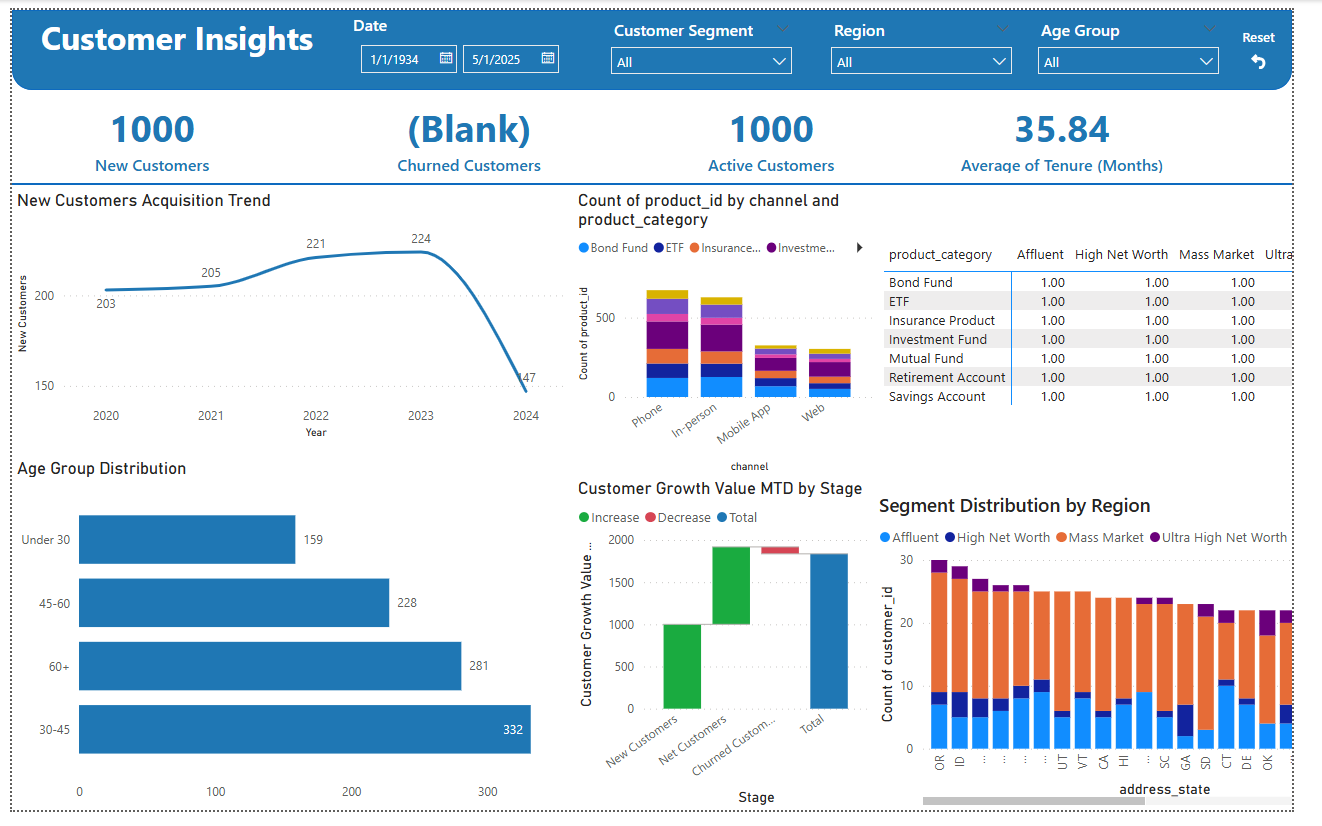

The dashboard page shown, as its layout file describes it:
{"tool":"powerbi","page":{"name":"Customer Insights","canvas":[1280,800],"ordinal":2},"visuals":[{"type":"lineChart","title":" New Customers Acquisition Trend","fields":{"Y":["customers.New Customers"],"Category":["customers.enrollment_date.Variation.Date Hierarchy.Year","customers.enrollment_date.Variation.Date Hierarchy.Quarter","customers.enrollment_date.Variation.Date Hierarchy.Month","customers.enrollment_date.Variation.Date Hierarchy.Day"]},"box":[0,179.9,561.1,252.9],"z":0},{"type":"clusteredBarChart","title":"Age Group Distribution","fields":{"Category":["customers.Age Group"],"Y":["Count(customers.customer_id)"]},"box":[0,448.3,561.4,351.7],"z":1000},{"type":"columnChart","title":"Segment Distribution by Region","fields":{"Y":["Count(customers.customer_id)"],"Category":["customers.customer_segment"]},"box":[867,468,413,332],"z":2000},{"type":"pivotTable","fields":{"Columns":["customers.customer_segment"],"Values":["customers.Customer Retention Rate"],"Rows":["products.product_category"]},"box":[867.4,228.6,533,238.9],"z":3000},{"type":"columnChart","fields":{"Category":["enrollments.channel"],"Y":["CountNonNull(enrollments.product_id)"]},"box":[561.1,179.9,306.3,287.6],"z":4000},{"type":"waterfallChart","fields":{"Category":["CustomerGrowthStages.Stage"],"Y":["CustomerGrowthStages.Customer Growth Value MTD"]},"box":[561.4,467.6,300.5,332.4],"z":5000},{"type":"card","fields":{"Values":["customers.New Customers"]},"box":[0,87.1,280.1,80.6],"z":6000},{"type":"card","fields":{"Values":["customers.Active Customers"]},"box":[619.2,87.1,280.1,80.6],"z":7000},{"type":"card","fields":{"Values":["customers.Churned Customers"]},"box":[316.6,87.1,280.1,80.6],"z":8000},{"type":"card","fields":{"Values":["Avg(customers.Tenure (Months))"]},"box":[909.6,87.1,280.1,80.6],"z":9000},{"type":"shape","box":[0,0,1280,80],"z":10000},{"type":"textbox","box":[24.4,0,292.3,72.1],"z":11000},{"type":"slicer","title":"Date","fields":{"Values":["Date.Date"]},"box":[336.3,3.7,240.7,68.4],"z":12000},{"type":"slicer","fields":{"Values":["customers.customer_segment"]},"box":[589.2,3.7,200.5,68.4],"z":13000},{"type":"slicer","fields":{"Values":["customers.address_state"]},"box":[809.4,3.7,200.5,68.4],"z":14000},{"type":"actionButton","title":"Reset","box":[1227.2,17.8,38.4,45],"z":15000},{"type":"shape","box":[0,167.7,1279.6,12.2],"z":16000},{"type":"slicer","fields":{"Values":["customers.Age Group"]},"box":[1016.4,3.7,200.5,68.4],"z":17000}]}

Visuals, with their boxes in screenshot pixels (x1, y1, x2, y2), scaled from the page's 1280x800 canvas onto the 1322x826 screenshot:
" New Customers Acquisition Trend" lineChart: (x1=0, y1=186, x2=580, y2=447)
"Age Group Distribution" clusteredBarChart: (x1=0, y1=463, x2=580, y2=825)
"Segment Distribution by Region" columnChart: (x1=895, y1=483, x2=1321, y2=825)
pivotTable - customers.customer_segment x customers.Customer Retention Rate: (x1=896, y1=236, x2=1321, y2=483)
columnChart - enrollments.channel x CountNonNull(enrollments.product_id): (x1=580, y1=186, x2=896, y2=483)
waterfallChart - CustomerGrowthStages.Stage x CustomerGrowthStages.Customer Growth Value MTD: (x1=580, y1=483, x2=890, y2=825)
card - customers.New Customers: (x1=0, y1=90, x2=289, y2=173)
card - customers.Active Customers: (x1=640, y1=90, x2=929, y2=173)
card - customers.Churned Customers: (x1=327, y1=90, x2=616, y2=173)
card - Avg(customers.Tenure (Months)): (x1=939, y1=90, x2=1229, y2=173)
shape: (x1=0, y1=0, x2=1321, y2=83)
textbox: (x1=25, y1=0, x2=327, y2=74)
"Date" slicer: (x1=347, y1=4, x2=596, y2=74)
slicer - customers.customer_segment: (x1=609, y1=4, x2=816, y2=74)
slicer - customers.address_state: (x1=836, y1=4, x2=1043, y2=74)
"Reset" actionButton: (x1=1267, y1=18, x2=1307, y2=65)
shape: (x1=0, y1=173, x2=1321, y2=186)
slicer - customers.Age Group: (x1=1050, y1=4, x2=1257, y2=74)
